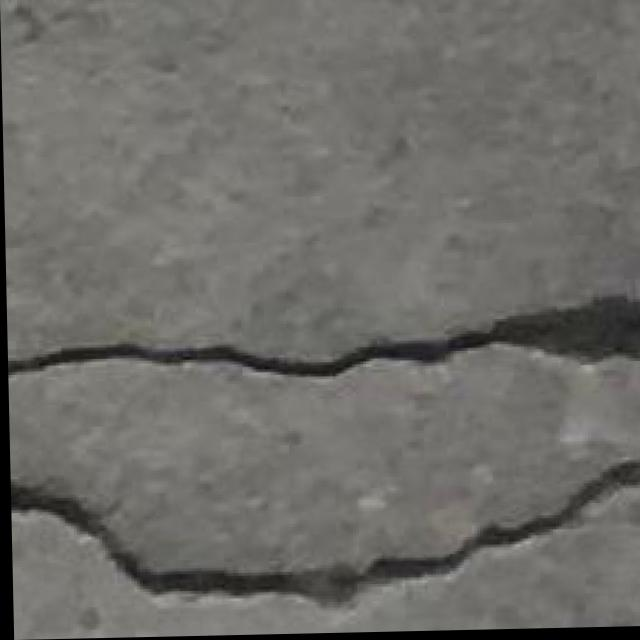Crack: (11, 454, 640, 617), (5, 268, 640, 409)
